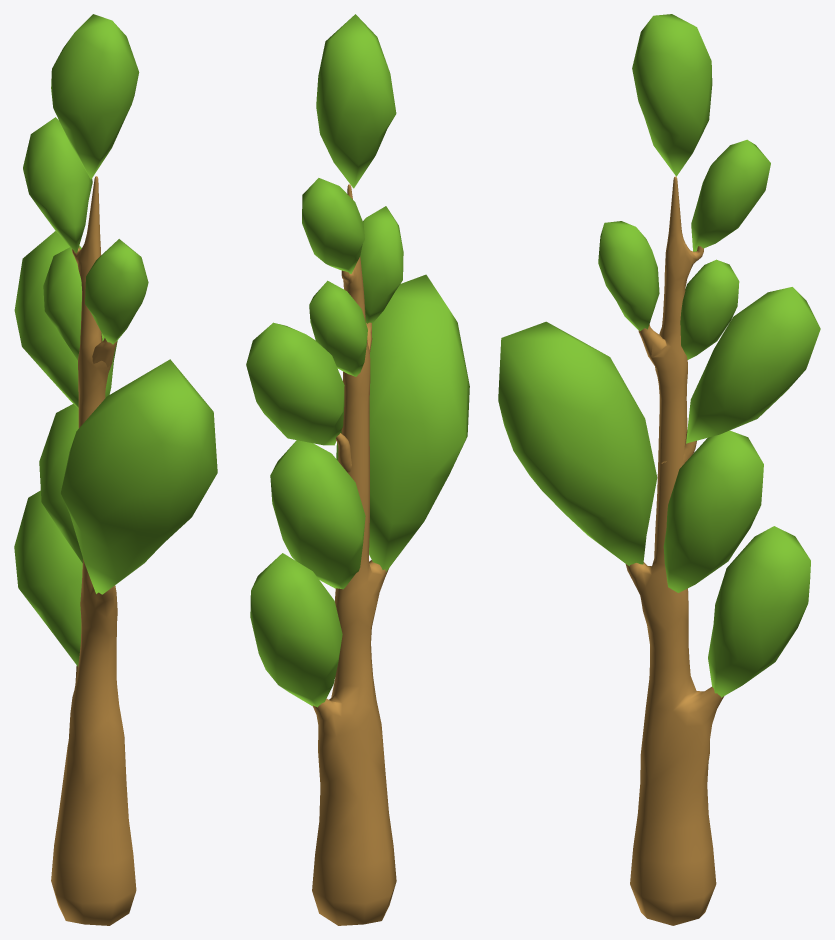
File: arvore_dropleaves.fbx
3 views of the same model, side by side, from view 1: azimuth 30°, elevation 25°; view 2: azimuth 150°, elevation 25°; view 3: azimuth 270°, elevation 25° (orthographic).
Parts seen in each view (by area): view 1: tronco, Icosphere.001, Icosphere.004, Icosphere, Icosphere.003, Icosphere1, Icosphere.002, Icosphere2, Icosphere3; view 2: tronco, Icosphere.001, Icosphere2, Icosphere, Icosphere.004, Icosphere1, Icosphere.003, Icosphere3, Icosphere.002; view 3: tronco, Icosphere.001, Icosphere1, Icosphere, Icosphere2, Icosphere.004, Icosphere.003, Icosphere.002, Icosphere3.
Part boxes in pixels (x1,y1,x2,y2): tronco: (51,176,136,925); Icosphere.001: (61,359,217,594); Icosphere.004: (51,14,139,179); Icosphere: (14,490,82,666); Icosphere.003: (23,117,92,253); Icosphere1: (14,231,117,408); Icosphere.002: (85,239,148,344); Icosphere2: (39,404,82,563); Icosphere3: (43,245,81,360); tronco: (312,184,396,925); Icosphere.001: (336,274,469,571); Icosphere2: (270,440,365,589); Icosphere: (250,553,342,707); Icosphere.004: (316,14,396,188); Icosphere1: (246,322,344,445); Icosphere.003: (302,178,364,273); Icosphere3: (309,280,367,376); Icosphere.002: (360,206,403,323); tronco: (625,176,724,925); Icosphere.001: (498,321,657,566); Icosphere1: (686,287,820,443); Icosphere: (708,526,810,697); Icosphere2: (663,430,763,592); Icosphere.004: (632,14,712,176); Icosphere.003: (691,139,770,251); Icosphere.002: (598,221,659,330); Icosphere3: (680,259,739,359).
Bounding box in the file's own units: 27.22 × 183 × 58.68.
